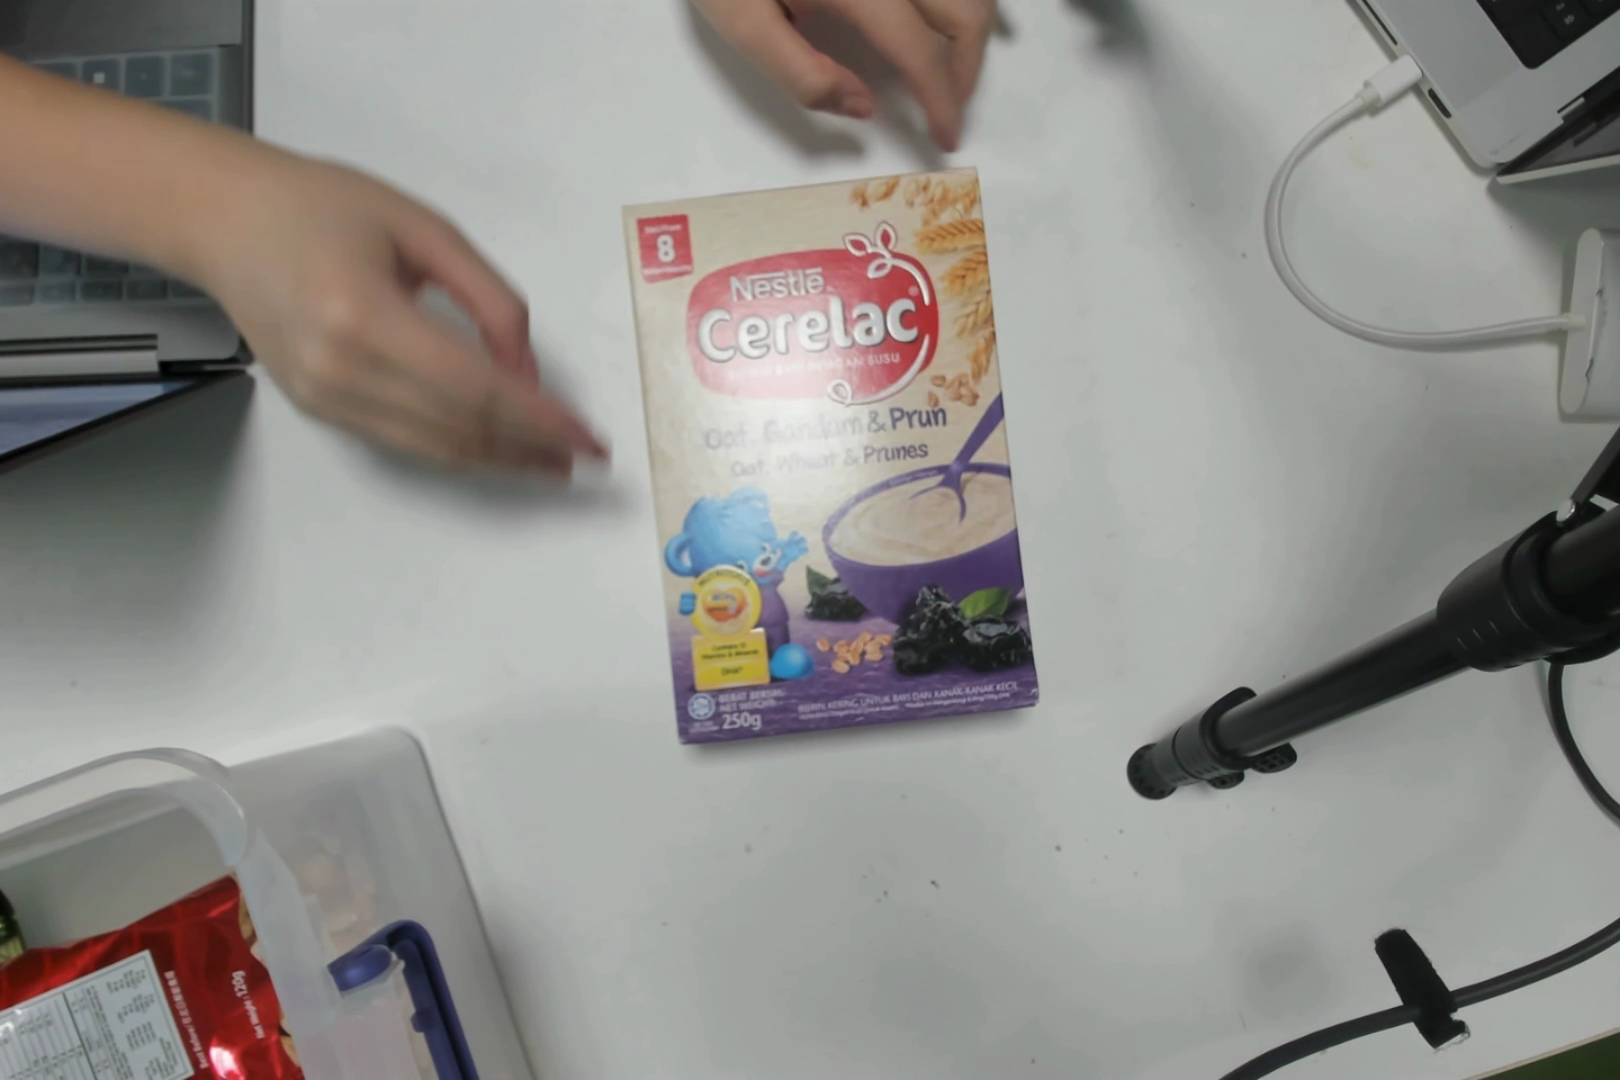d: (638, 205, 1032, 729)
